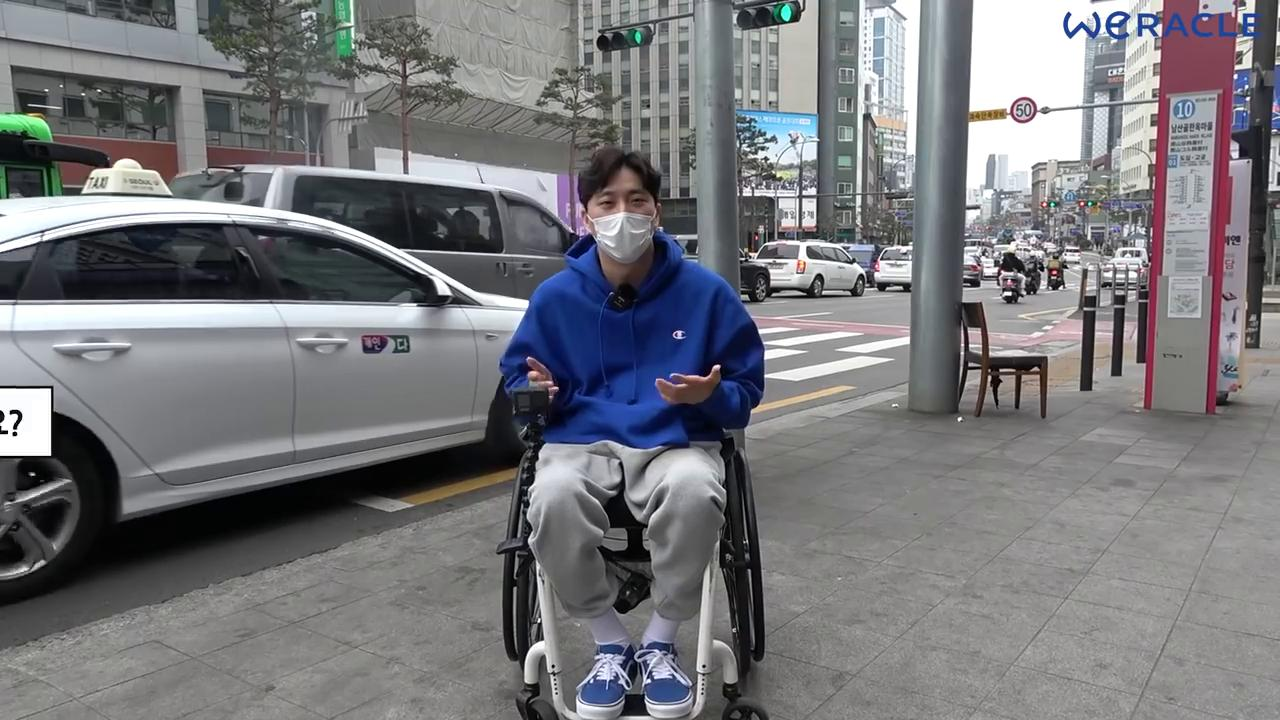wheelchair: (499, 150, 765, 719)
